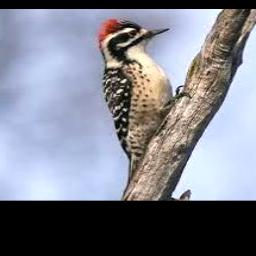Woodpecker: (95, 19, 191, 182)
